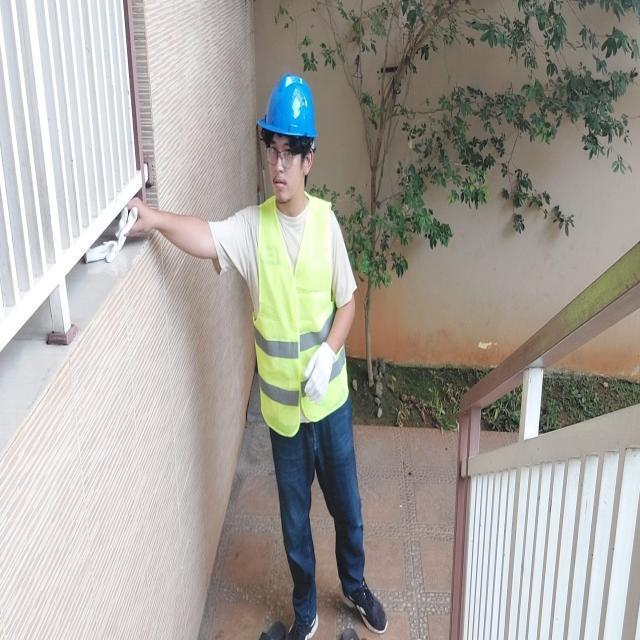Capacete: (258, 74, 316, 137)
Colete: (254, 194, 347, 436)
Pessoa: (129, 74, 386, 639)
